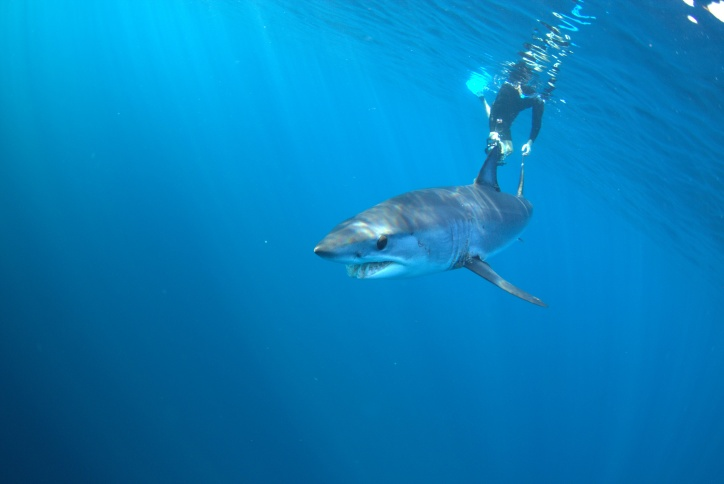Mako: (291, 137, 600, 316)
